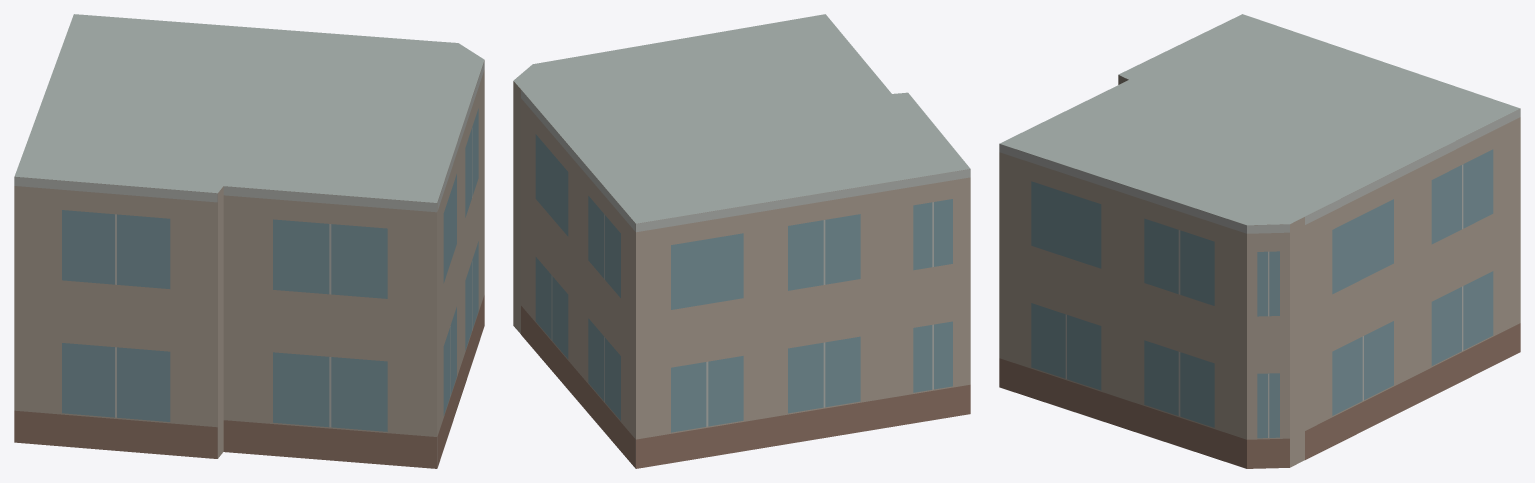
The model's file is survey-upis-32501308.glb.
3 views of the same model, side by side, from view 1: azimuth 30°, elevation 25°; view 2: azimuth 150°, elevation 25°; view 3: azimuth 270°, elevation 25° (orthographic). The views are drawn at different scales.
Parts seen in each view (by area): view 1: survey-upis-32501308.tmp; view 2: survey-upis-32501308.tmp; view 3: survey-upis-32501308.tmp.
Boxes of the visible parts, <box> form: survey-upis-32501308.tmp: <box>14,14,484,468</box>; survey-upis-32501308.tmp: <box>513,14,970,468</box>; survey-upis-32501308.tmp: <box>999,14,1520,468</box>.
Bounding box in the file's own units: 13.03 × 7 × 13.59.
